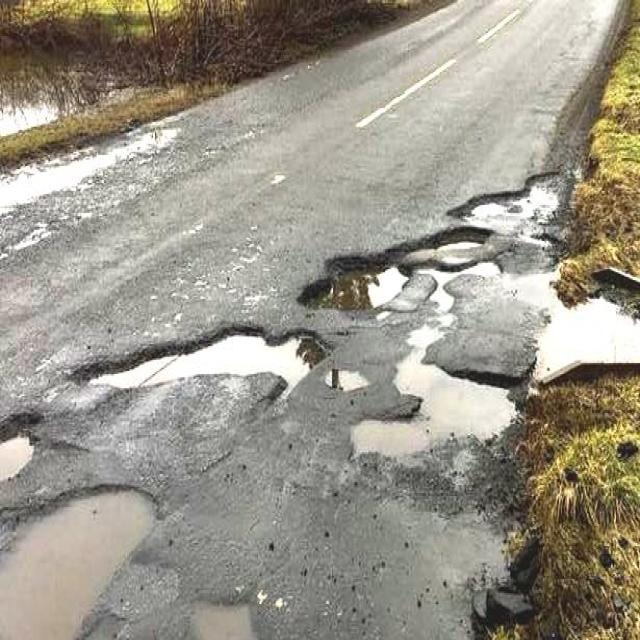pothole: (0, 475, 165, 640), (77, 325, 341, 396), (352, 357, 524, 465), (303, 244, 416, 329), (462, 168, 570, 226), (414, 216, 494, 260)
